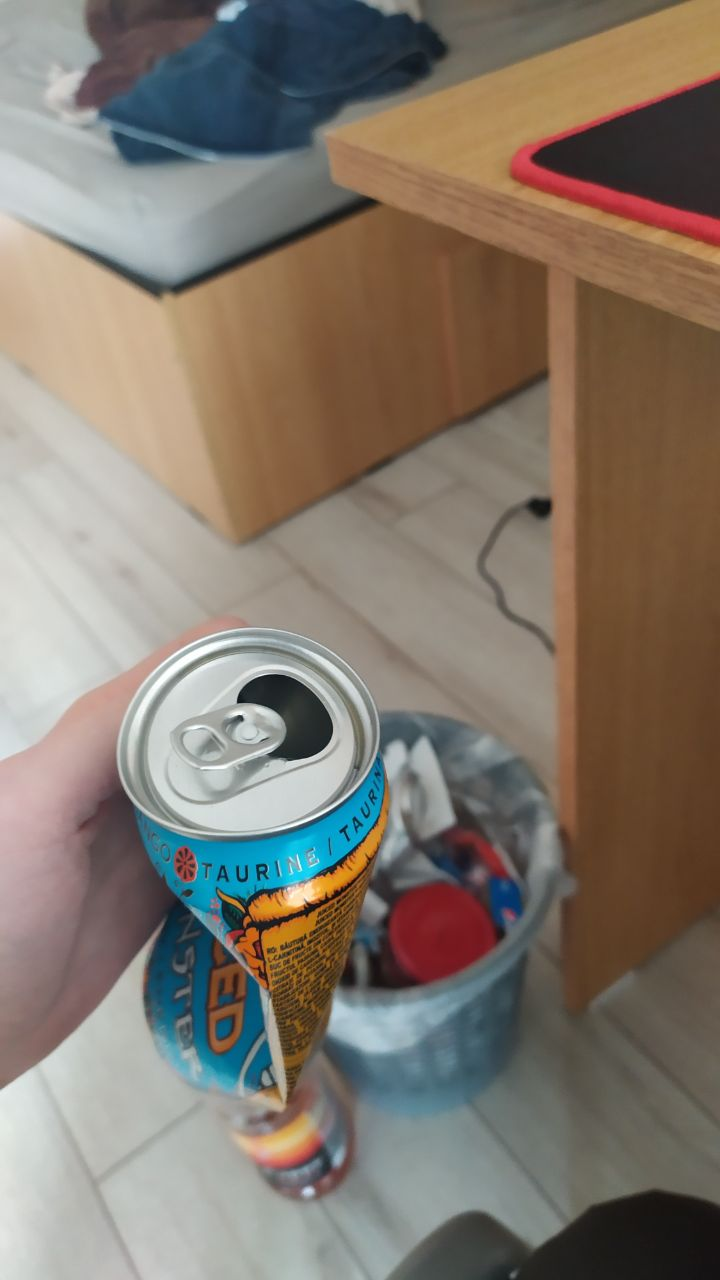Can: (116, 620, 380, 1113)
